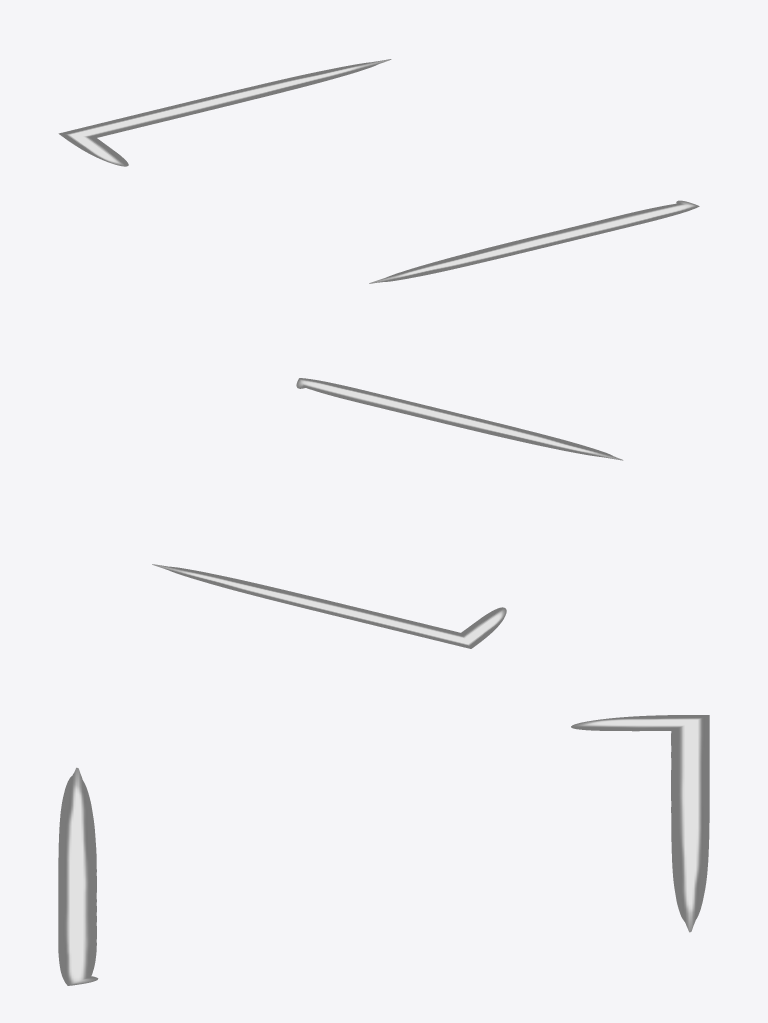
The model's file is zhuangbei_buttonedge.FBX.
3 renders of one model, top to bottom at view 1: azimuth 30°, elevation 25°; view 2: azimuth 150°, elevation 25°; view 3: azimuth 270°, elevation 25°, orthographic. The views are drawn at different scales.
Parts seen in each view (by area): view 1: zhuangbei_buttonedge; view 2: zhuangbei_buttonedge; view 3: zhuangbei_buttonedge.
Boxes of the visible parts, bbox=[...] form: zhuangbei_buttonedge: bbox=[58, 59, 699, 283]; zhuangbei_buttonedge: bbox=[152, 378, 623, 648]; zhuangbei_buttonedge: bbox=[58, 715, 709, 985].
Bounding box in the file's own units: 103 × 2.93e-14 × 103.
Materials: 1 (1 with a texture image).
